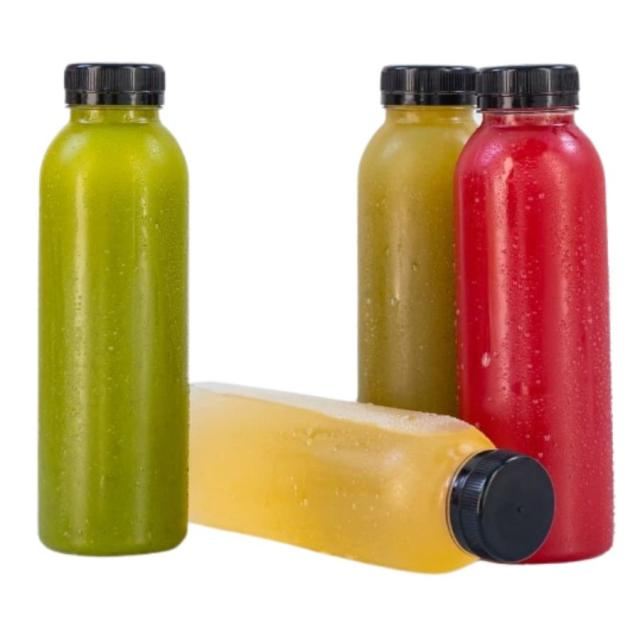bottom: (38, 518, 195, 564), (537, 514, 633, 558)
cap: (438, 444, 566, 557), (360, 40, 480, 126), (476, 48, 588, 119), (59, 56, 167, 123)
